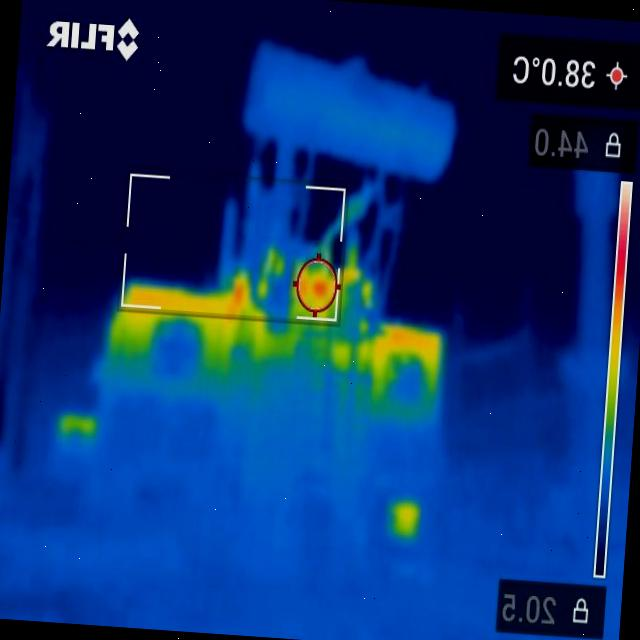loose_joint_red: (309, 270, 331, 306), (230, 270, 249, 299), (343, 247, 358, 282)
